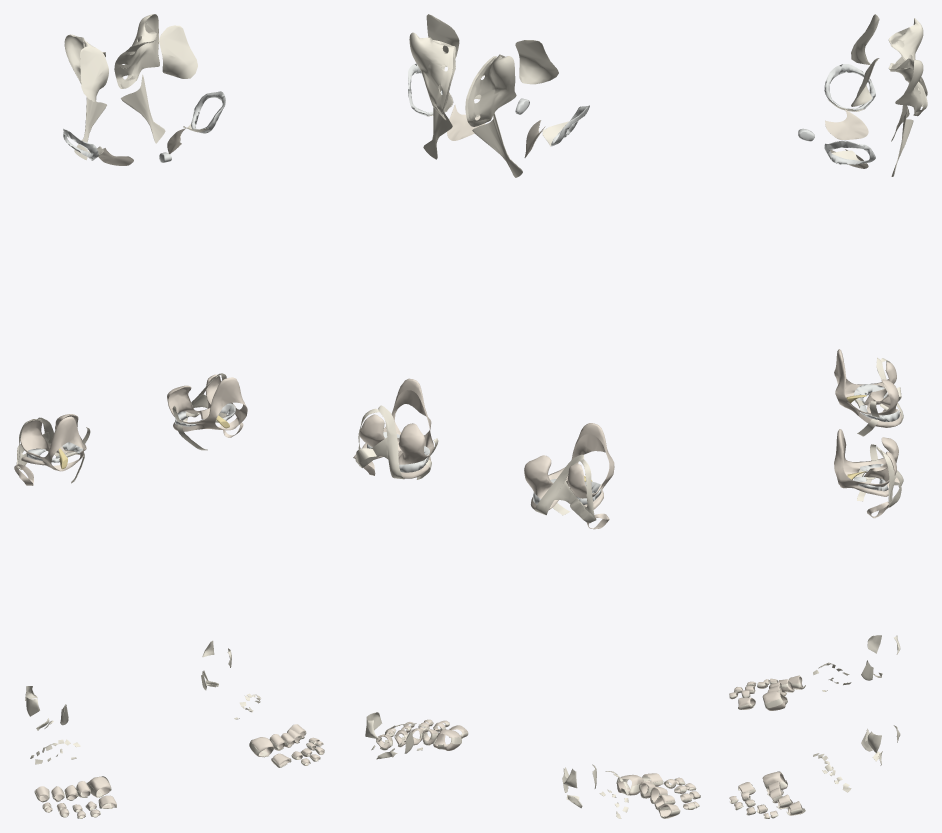
Rendered from zanatomy-joints-lower.glb.
The picture shows the model from 3 angles, left to right: view 1: azimuth 30°, elevation 25°; view 2: azimuth 150°, elevation 25°; view 3: azimuth 270°, elevation 25°; orthographic projection. The views are drawn at different scales.
Visible parts, largest first — view 1: zj_knee_joint_capsule_l_1, zj_knee_joint_capsule_r_1, zj_posterior_sacro_iliac_ligament_l_1, zj_anterior_sacro_iliac_ligament_l_1, zj_anterior_sacro_iliac_ligament_r_1, zj_metatarsophalangeal_joint_capsules_r_1, zj_sacrotuberous_ligament_l_1, zj_metatarsophalangeal_joint_capsules_l_1, zj_posterior_sacro_iliac_ligament_r_1, zj_sacrotuberous_ligament_r_1; view 2: zj_knee_joint_capsule_l_1, zj_knee_joint_capsule_r_1, zj_posterior_sacro_iliac_ligament_r_1, zj_posterior_sacro_iliac_ligament_l_1, zj_anterior_sacro_iliac_ligament_r_1, zj_metatarsophalangeal_joint_capsules_r_1, zj_metatarsophalangeal_joint_capsules_l_1, zj_sacrotuberous_ligament_r_1, zj_oblique_popliteal_ligament_l_1, zj_anterior_sacro_iliac_ligament_l_1, zj_oblique_popliteal_ligament_r_1, zj_arcuate_popliteal_ligament_r_1; view 3: zj_knee_joint_capsule_r_1, zj_knee_joint_capsule_l_1, zj_posterior_sacro_iliac_ligament_l_1, zj_posterior_sacro_iliac_ligament_r_1, zj_obturator_membrane_r_1, zj_metatarsophalangeal_joint_capsules_l_1, zj_acetabular_labrum_r_1, zj_metatarsophalangeal_joint_capsules_r_1, zj_acetabular_labrum_l_1, zj_anterior_sacro_iliac_ligament_r_1, zj_anterior_sacro_iliac_ligament_l_1.
Part boxes in pixels (left/top/right/bottom): zj_knee_joint_capsule_l_1: left=167, top=374, right=247, bottom=431; zj_knee_joint_capsule_r_1: left=20, top=414, right=86, bottom=471; zj_posterior_sacro_iliac_ligament_l_1: left=114, top=14, right=159, bottom=88; zj_anterior_sacro_iliac_ligament_l_1: left=159, top=25, right=197, bottom=78; zj_anterior_sacro_iliac_ligament_r_1: left=80, top=46, right=108, bottom=101; zj_metatarsophalangeal_joint_capsules_r_1: left=35, top=776, right=110, bottom=801; zj_sacrotuberous_ligament_l_1: left=120, top=74, right=165, bottom=143; zj_metatarsophalangeal_joint_capsules_l_1: left=251, top=724, right=305, bottom=756; zj_posterior_sacro_iliac_ligament_r_1: left=64, top=34, right=105, bottom=94; zj_sacrotuberous_ligament_r_1: left=74, top=97, right=106, bottom=160; zj_knee_joint_capsule_l_1: left=359, top=378, right=433, bottom=478; zj_knee_joint_capsule_r_1: left=524, top=423, right=614, bottom=509; zj_posterior_sacro_iliac_ligament_r_1: left=465, top=54, right=516, bottom=126; zj_posterior_sacro_iliac_ligament_l_1: left=409, top=32, right=455, bottom=119; zj_anterior_sacro_iliac_ligament_r_1: left=515, top=40, right=558, bottom=84; zj_metatarsophalangeal_joint_capsules_r_1: left=617, top=774, right=679, bottom=817; zj_metatarsophalangeal_joint_capsules_l_1: left=376, top=728, right=460, bottom=750; zj_sacrotuberous_ligament_r_1: left=472, top=113, right=522, bottom=177; zj_oblique_popliteal_ligament_l_1: left=378, top=405, right=404, bottom=479; zj_anterior_sacro_iliac_ligament_l_1: left=426, top=14, right=459, bottom=58; zj_oblique_popliteal_ligament_r_1: left=535, top=454, right=584, bottom=515; zj_arcuate_popliteal_ligament_r_1: left=553, top=459, right=594, bottom=523; zj_knee_joint_capsule_r_1: left=834, top=349, right=901, bottom=427; zj_knee_joint_capsule_l_1: left=834, top=429, right=900, bottom=496; zj_posterior_sacro_iliac_ligament_l_1: left=888, top=58, right=927, bottom=116; zj_posterior_sacro_iliac_ligament_r_1: left=888, top=18, right=927, bottom=96; zj_obturator_membrane_r_1: left=825, top=109, right=868, bottom=139; zj_metatarsophalangeal_joint_capsules_l_1: left=762, top=772, right=803, bottom=815; zj_acetabular_labrum_r_1: left=824, top=64, right=875, bottom=110; zj_metatarsophalangeal_joint_capsules_r_1: left=762, top=675, right=802, bottom=710; zj_acetabular_labrum_l_1: left=824, top=140, right=875, bottom=164; zj_anterior_sacro_iliac_ligament_r_1: left=851, top=14, right=879, bottom=64; zj_anterior_sacro_iliac_ligament_l_1: left=851, top=58, right=879, bottom=106.
Size of the model in its own units: 0.3872 by 0.9357 by 0.2357.
